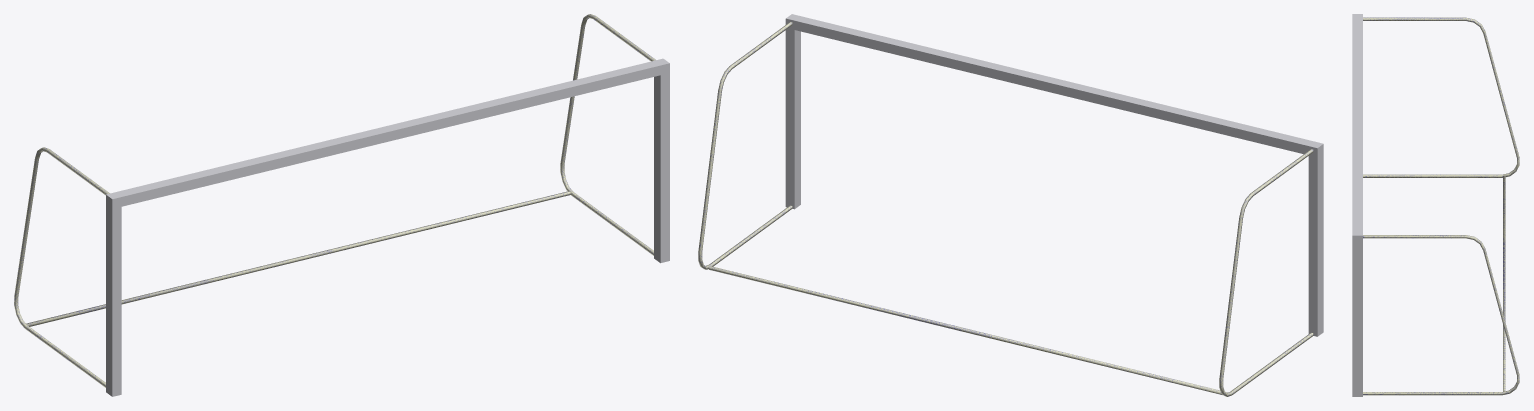
Rendered from Soccer_Goal.dae.
3 renders of one model, left to right at view 1: azimuth 30°, elevation 25°; view 2: azimuth 150°, elevation 25°; view 3: azimuth 270°, elevation 25°, orthographic. The views are drawn at different scales.
Visible parts, largest first — view 1: Posts (×2), leg (×2), SketchUp; view 2: Posts (×2), leg (×2), SketchUp; view 3: Posts, leg (×2), SketchUp.
Part boxes in pixels (x1,y1,x2,y2): Posts (×2): (106,58,669,396); leg (×2): (14,14,655,387); SketchUp: (26,191,570,326); Posts (×2): (785,14,1323,336); leg (×2): (698,22,1313,396); SketchUp: (709,266,1227,394); Posts: (1352,14,1362,396); leg (×2): (1363,17,1519,395); SketchUp: (1503,175,1505,391).
Size of the model in its own units: 298 by 94.95 by 101.
